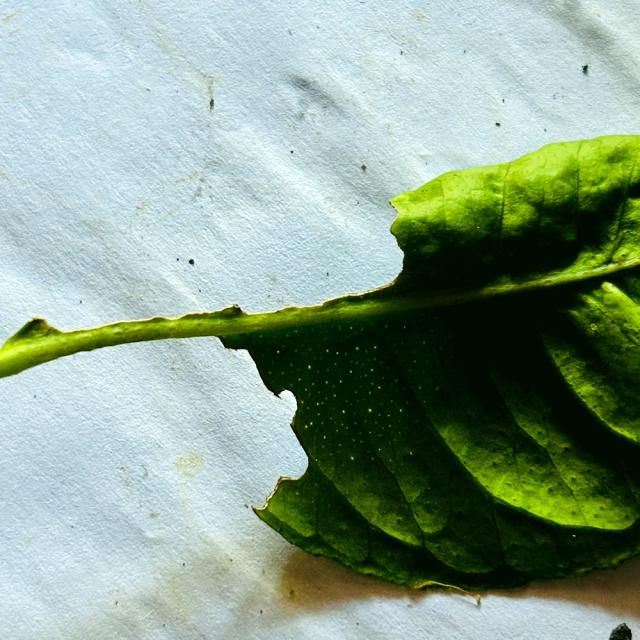Deficiency Leaf: (43, 165, 401, 330), (0, 341, 307, 532)
Lemon: (0, 136, 639, 591)
